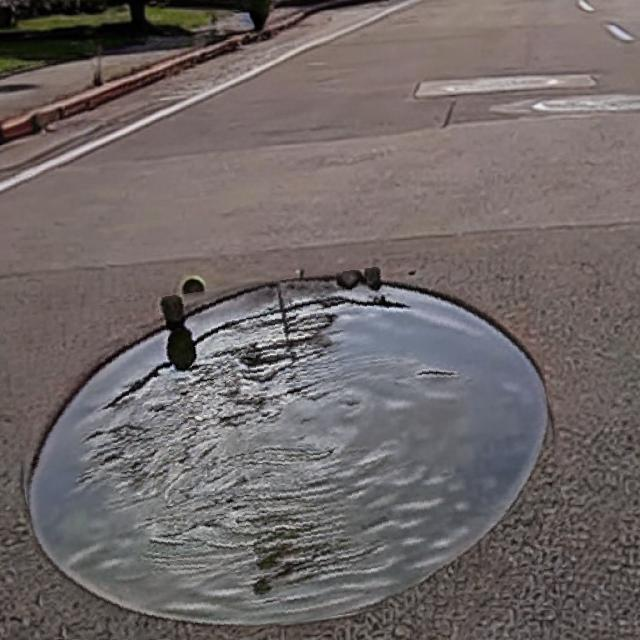puddle: (13, 265, 565, 640)
